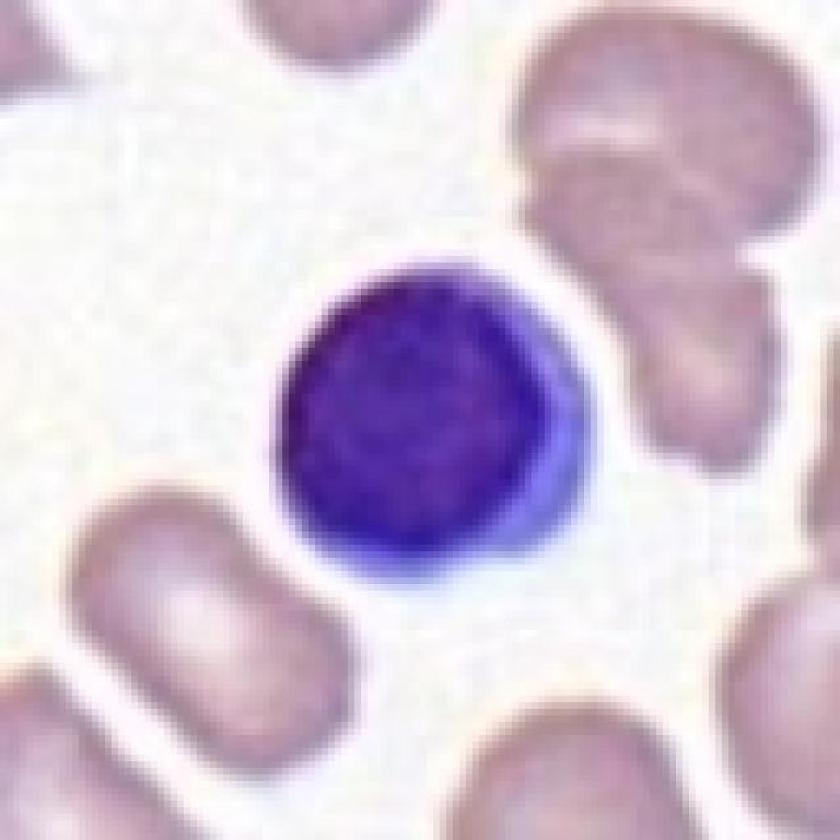lymphocyte: (268, 248, 600, 596)
